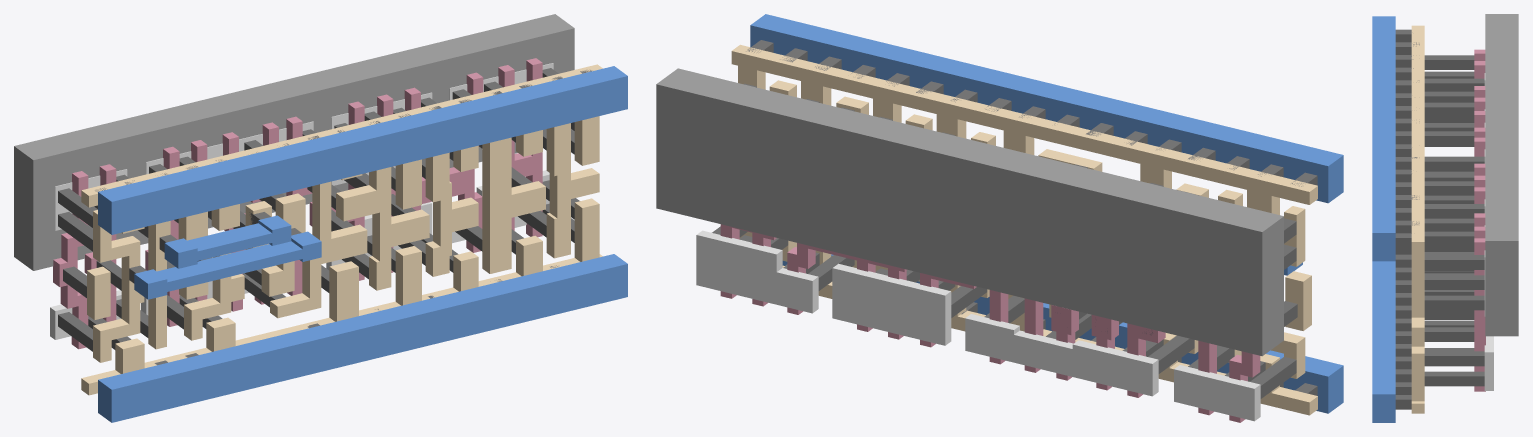
The model's file is sky130_fd_sc_hd__dlxbn_2.gds.gltf.
The picture shows the model from 3 angles, left to right: view 1: azimuth 30°, elevation 25°; view 2: azimuth 150°, elevation 25°; view 3: azimuth 270°, elevation 25°; orthographic projection. The views are drawn at different scales.
Parts seen in each view (by area): view 1: sky130_fd_sc_hd__dlxbn_2_met1, sky130_fd_sc_hd__dlxbn_2_li1, sky130_fd_sc_hd__dlxbn_2_nwell, sky130_fd_sc_hd__dlxbn_2_licon, sky130_fd_sc_hd__dlxbn_2_poly, sky130_fd_sc_hd__dlxbn_2_diff, sky130_fd_sc_hd__dlxbn_2_mcon; view 2: sky130_fd_sc_hd__dlxbn_2_nwell, sky130_fd_sc_hd__dlxbn_2_li1, sky130_fd_sc_hd__dlxbn_2_diff, sky130_fd_sc_hd__dlxbn_2_met1, sky130_fd_sc_hd__dlxbn_2_poly, sky130_fd_sc_hd__dlxbn_2_licon, sky130_fd_sc_hd__dlxbn_2_mcon; view 3: sky130_fd_sc_hd__dlxbn_2_licon, sky130_fd_sc_hd__dlxbn_2_nwell, sky130_fd_sc_hd__dlxbn_2_met1, sky130_fd_sc_hd__dlxbn_2_mcon, sky130_fd_sc_hd__dlxbn_2_li1, sky130_fd_sc_hd__dlxbn_2_poly, sky130_fd_sc_hd__dlxbn_2_diff.
Part boxes in pixels (bbox=[...]): sky130_fd_sc_hd__dlxbn_2_met1: bbox=[98, 66, 627, 422]; sky130_fd_sc_hd__dlxbn_2_li1: bbox=[81, 64, 602, 395]; sky130_fd_sc_hd__dlxbn_2_nwell: bbox=[14, 14, 574, 270]; sky130_fd_sc_hd__dlxbn_2_licon: bbox=[58, 68, 579, 351]; sky130_fd_sc_hd__dlxbn_2_poly: bbox=[53, 58, 542, 349]; sky130_fd_sc_hd__dlxbn_2_diff: bbox=[50, 63, 553, 339]; sky130_fd_sc_hd__dlxbn_2_mcon: bbox=[95, 70, 592, 365]; sky130_fd_sc_hd__dlxbn_2_nwell: bbox=[656, 68, 1283, 356]; sky130_fd_sc_hd__dlxbn_2_li1: bbox=[731, 44, 1317, 415]; sky130_fd_sc_hd__dlxbn_2_diff: bbox=[696, 230, 1260, 421]; sky130_fd_sc_hd__dlxbn_2_met1: bbox=[750, 14, 1343, 413]; sky130_fd_sc_hd__dlxbn_2_poly: bbox=[720, 224, 1260, 422]; sky130_fd_sc_hd__dlxbn_2_licon: bbox=[712, 83, 1297, 398]; sky130_fd_sc_hd__dlxbn_2_mcon: bbox=[746, 40, 1317, 395]; sky130_fd_sc_hd__dlxbn_2_licon: bbox=[1424, 55, 1484, 386]; sky130_fd_sc_hd__dlxbn_2_nwell: bbox=[1485, 14, 1518, 336]; sky130_fd_sc_hd__dlxbn_2_met1: bbox=[1372, 16, 1395, 422]; sky130_fd_sc_hd__dlxbn_2_mcon: bbox=[1395, 29, 1419, 409]; sky130_fd_sc_hd__dlxbn_2_li1: bbox=[1411, 25, 1424, 413]; sky130_fd_sc_hd__dlxbn_2_poly: bbox=[1474, 49, 1485, 391]; sky130_fd_sc_hd__dlxbn_2_diff: bbox=[1484, 73, 1493, 390].
Bounding box in the file's own units: 8.2 × 3.2 × 2.24.
